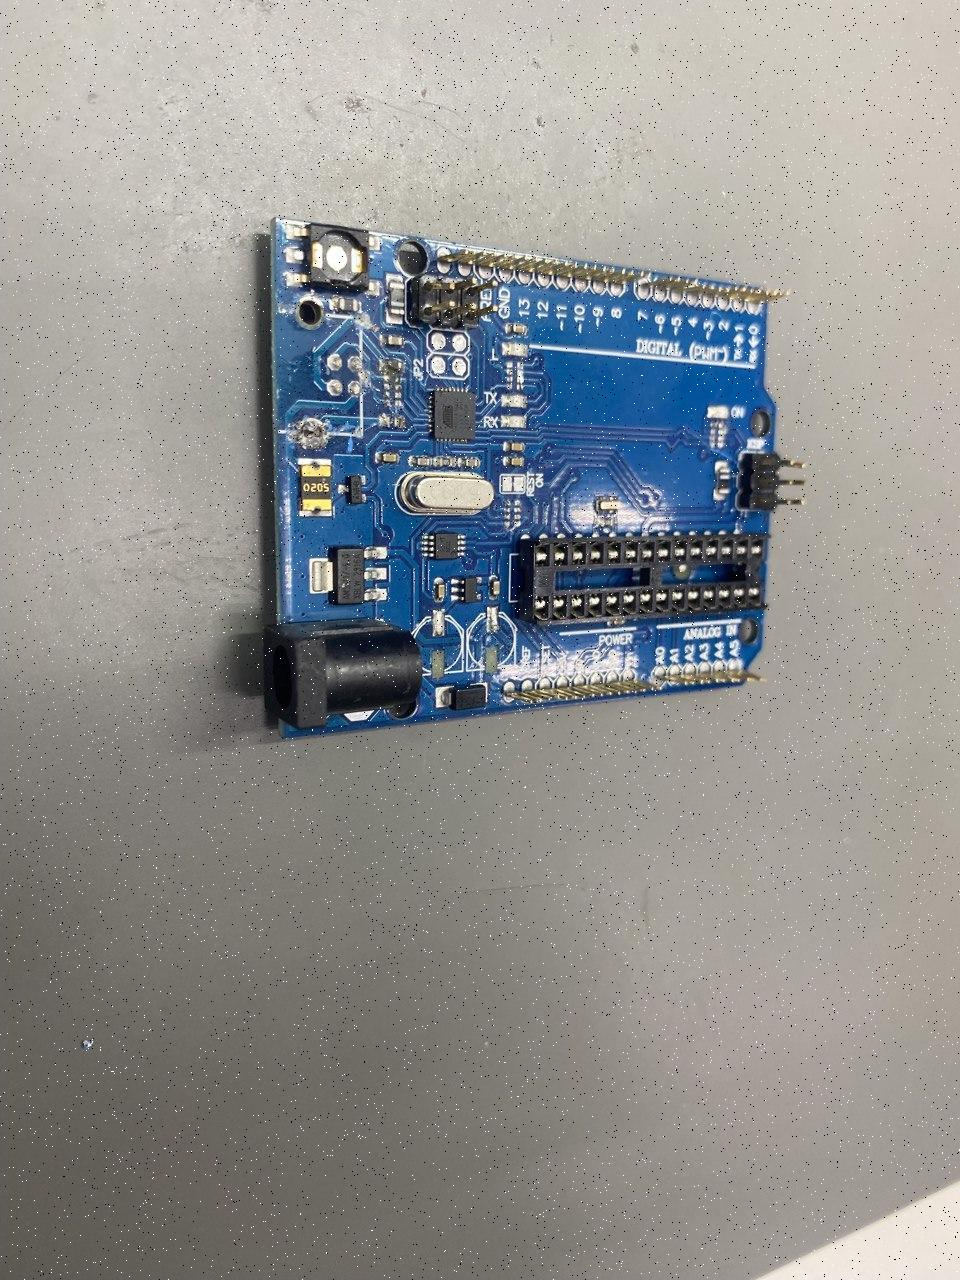Arduino board: (264, 220, 805, 741)
